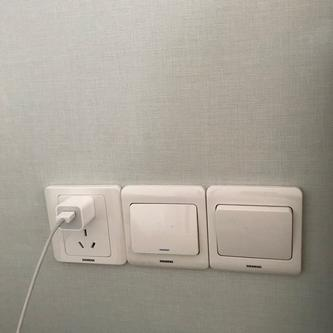switch: (213, 199, 298, 263), (125, 198, 204, 257)
